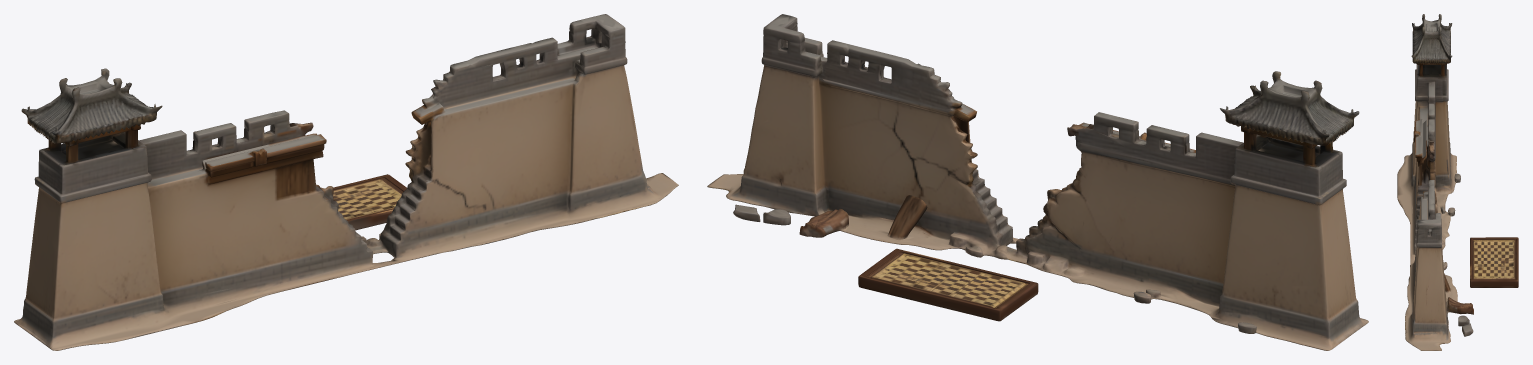
Rendered from wall-short-hy3-v1.glb.
3 views of the same model, side by side, from view 1: azimuth 30°, elevation 25°; view 2: azimuth 150°, elevation 25°; view 3: azimuth 270°, elevation 25° (orthographic). The views are drawn at different scales.
Parts seen in each view (by area): view 1: node_0; view 2: node_0; view 3: node_0.
Part boxes in pixels (<box>): node_0: <box>14,14,678,350</box>; node_0: <box>707,14,1368,350</box>; node_0: <box>1397,14,1518,350</box>.
Bounding box in the file's own units: 6.5 × 2.4 × 1.7.
1 material, 1 textured.
